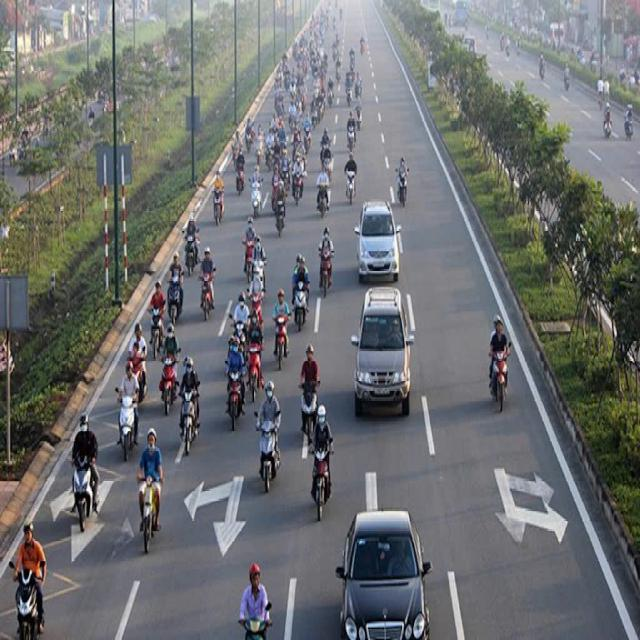car: (342, 506, 430, 640), (354, 290, 415, 412), (358, 201, 398, 280)
motobyte: (66, 413, 100, 528), (11, 528, 45, 640), (137, 438, 161, 548), (245, 564, 273, 640), (258, 383, 278, 486), (316, 411, 334, 524), (489, 321, 509, 415), (118, 364, 138, 452), (182, 354, 196, 460), (301, 347, 318, 434), (162, 334, 178, 416), (227, 337, 240, 428), (294, 254, 308, 332), (130, 324, 144, 402), (247, 317, 260, 400), (274, 287, 286, 369), (169, 254, 182, 325), (319, 231, 332, 297), (151, 281, 162, 359), (201, 253, 213, 323), (244, 216, 255, 282), (252, 238, 263, 300), (213, 168, 223, 232), (186, 216, 197, 274), (235, 297, 245, 355), (251, 270, 261, 328), (317, 166, 328, 218), (397, 160, 408, 206), (275, 180, 283, 236), (236, 148, 244, 199), (347, 157, 355, 208), (252, 168, 260, 218), (293, 158, 301, 203), (321, 129, 330, 167), (282, 152, 290, 194), (346, 114, 355, 150), (273, 169, 279, 211), (310, 98, 318, 129), (266, 135, 273, 170), (297, 144, 305, 174), (356, 98, 363, 130), (324, 150, 331, 181), (256, 128, 262, 164), (305, 118, 311, 152), (293, 123, 299, 157), (246, 120, 252, 152), (280, 124, 286, 153), (356, 73, 362, 102), (335, 56, 341, 85), (347, 78, 353, 106), (276, 94, 284, 115), (317, 92, 322, 123), (289, 102, 294, 129), (350, 49, 356, 71), (329, 77, 333, 105), (274, 128, 278, 152), (295, 107, 299, 129), (361, 36, 365, 57), (271, 118, 278, 129), (324, 54, 328, 72)
